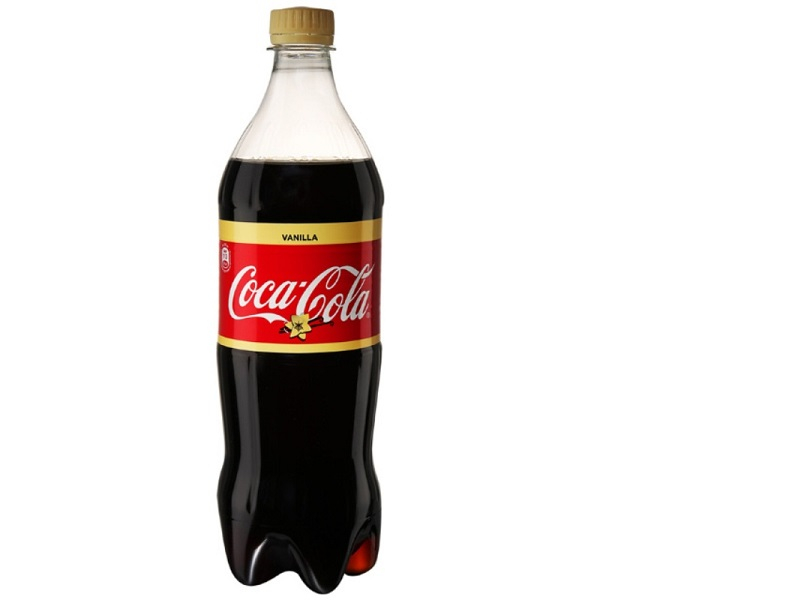lemonade: (180, 1, 397, 595)
